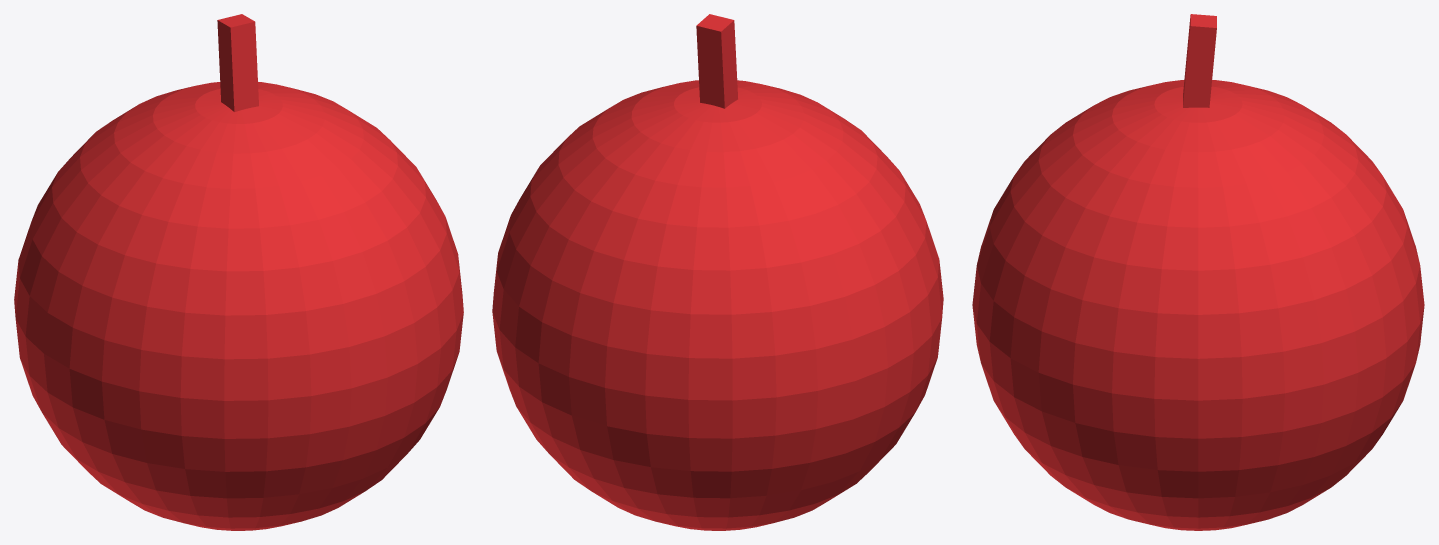
Rendered from apple.fbx.
The picture shows the model from 3 angles, left to right: view 1: azimuth 30°, elevation 25°; view 2: azimuth 150°, elevation 25°; view 3: azimuth 270°, elevation 25°; orthographic projection.
Visible parts, largest first — view 1: Sphere; view 2: Sphere; view 3: Sphere.
Part boxes in pixels (left/top/right/bottom): Sphere: left=14, top=14, right=463, bottom=530; Sphere: left=492, top=14, right=943, bottom=530; Sphere: left=972, top=14, right=1424, bottom=530.
Bounding box in the file's own units: 200 × 239 × 200.
